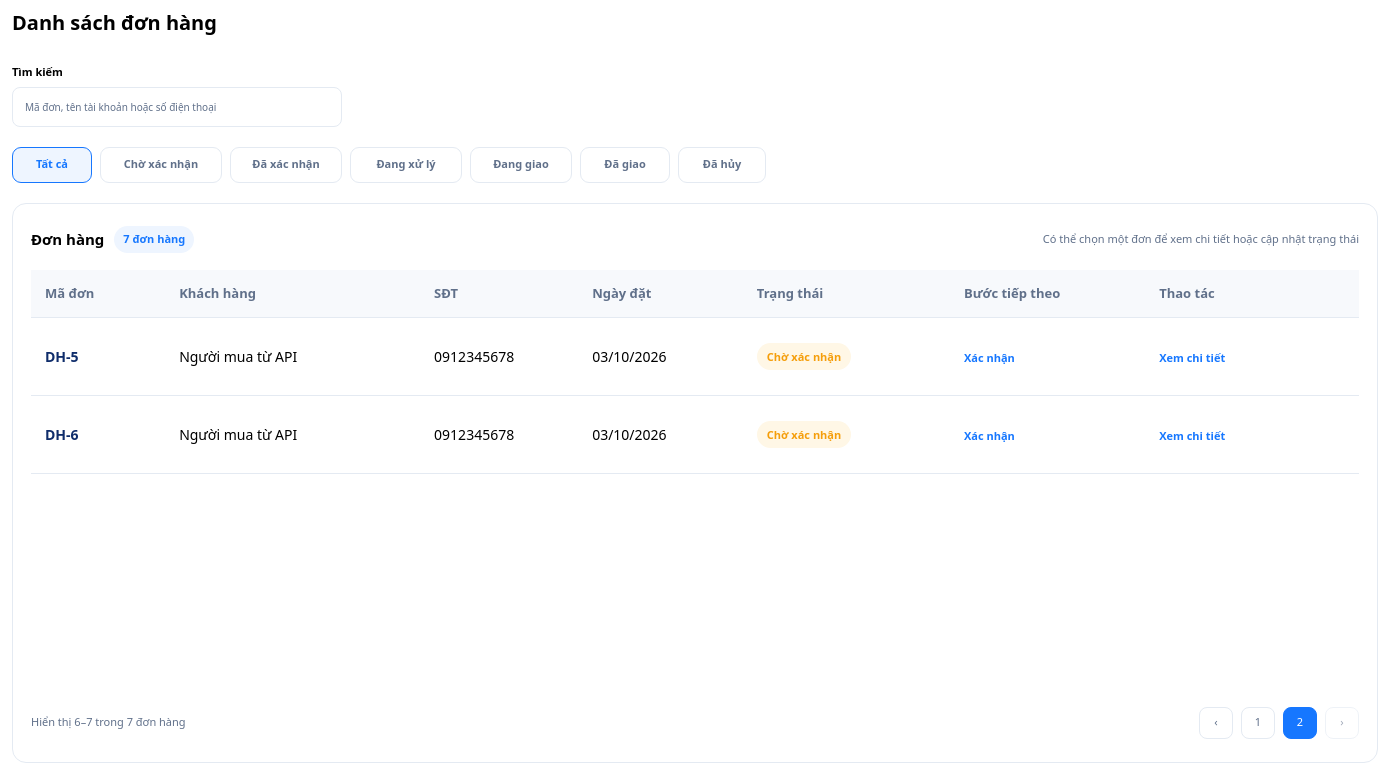
it: server pagination uses five records and clamps a now-empty deep page
This screenshot has width=1378, height=768.
Expected: the text "Hiển thị 6–7 trong 7 đơn hàng" is shown, [31,714,186,731]
Expected: the number of rows is 3, [31,270,1359,318]; [31,318,1359,396]; [31,396,1359,474]
Click the button named "Trang trước" at x=1216, y=722, box [1199,706,1233,738]
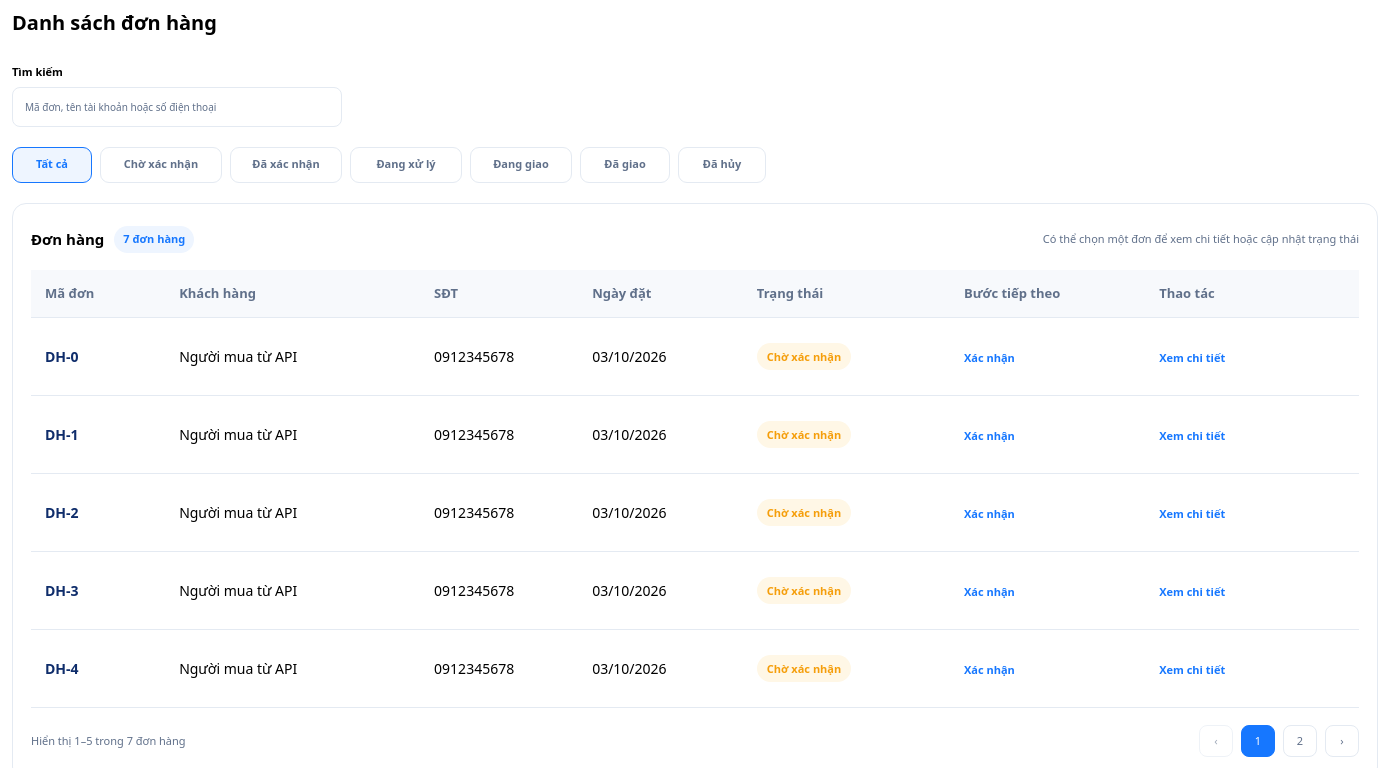
Now the text "Hiển thị 1–5 trong 7 đơn hàng" is shown, box [31,733,186,749]
Now the number of rows is 6, box [31,270,1359,318]; [31,318,1359,396]; [31,396,1359,474]; [31,474,1359,552]; [31,552,1359,630]; [31,630,1359,708]
